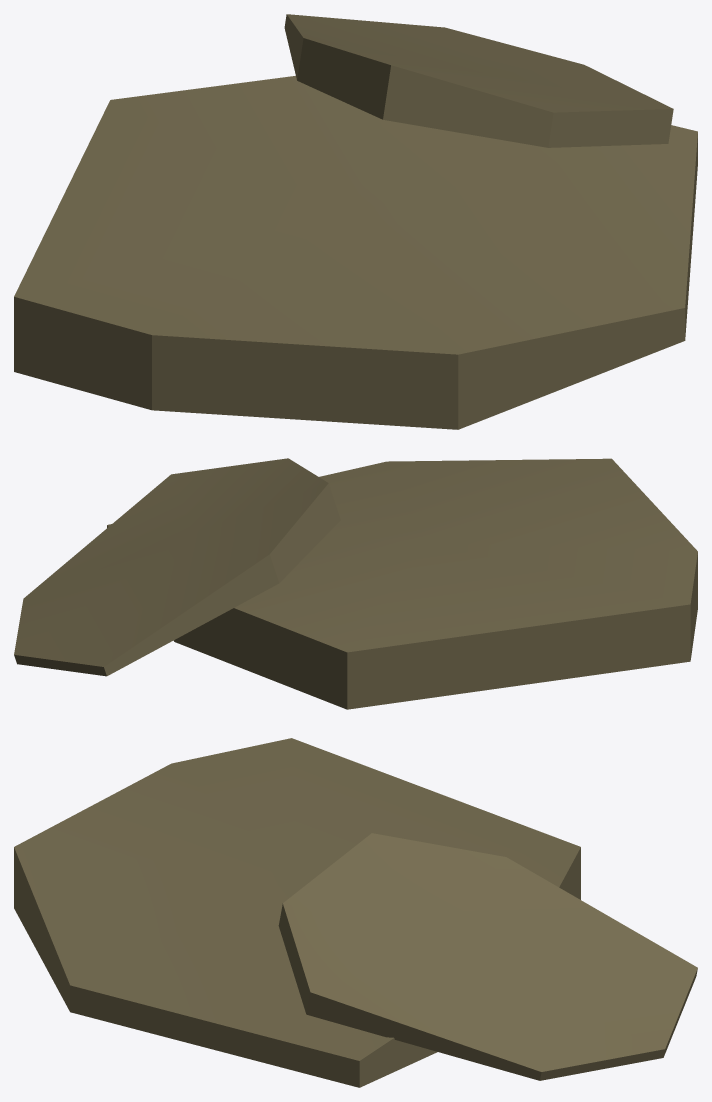
Rendered from ROCHES.fbx.
3 renders of one model, top to bottom at view 1: azimuth 30°, elevation 25°; view 2: azimuth 150°, elevation 25°; view 3: azimuth 270°, elevation 25°, orthographic. The views are drawn at different scales.
Visible parts, largest first — view 1: ROCHE1; view 2: ROCHE1; view 3: ROCHE1.
Boxes of the visible parts, x1,y1,x2,y2 form: ROCHE1: [14, 14, 697, 429]; ROCHE1: [14, 458, 697, 709]; ROCHE1: [14, 738, 697, 1087].
Bounding box in the file's own units: 653 × 143 × 654.
